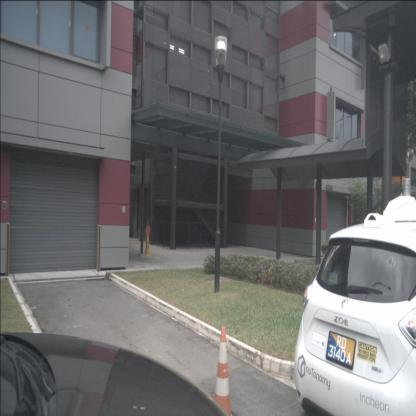movable_object-trafficcone: (212, 327, 232, 415), (145, 226, 150, 256)
vehicle-car: (294, 223, 416, 416)
